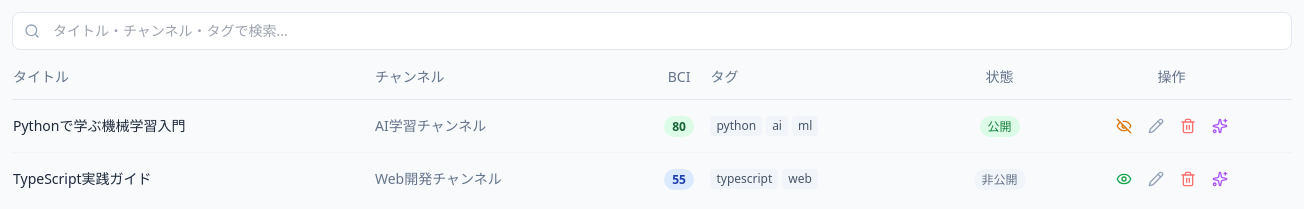
Test: VideoTable › 編集モード › 編集中に「保存」ボタンと「キャンセル」ボタンが表示される
Click the button named "編集" in the row of "Pythonで学ぶ機械学習入門": (1156, 126) x1=1142 y1=112 x2=1170 y2=140
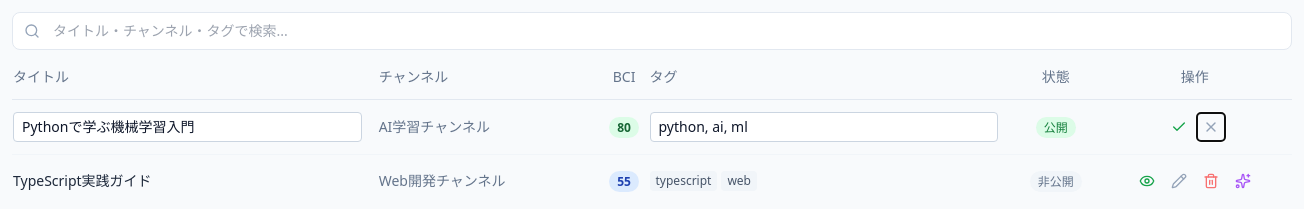
Now the button named "保存" is shown, box x1=1165 y1=113 x2=1193 y2=141
Now the button named "キャンセル" is shown, box x1=1197 y1=113 x2=1225 y2=141
